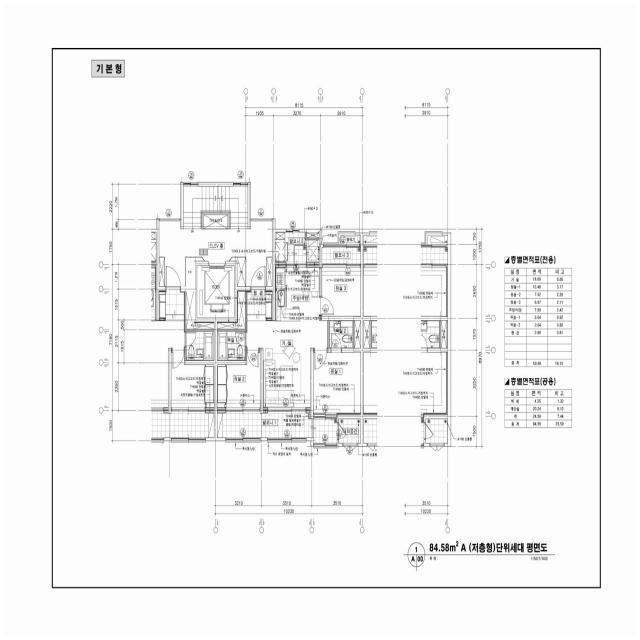space_balconi: (217, 411, 337, 443), (275, 232, 319, 264), (322, 248, 361, 264)
space_bedroom: (313, 352, 361, 415), (217, 352, 260, 408), (322, 268, 361, 316)
space_elevator: (197, 265, 234, 318)
space_elevator_hall: (159, 221, 272, 286)
space_front: (247, 290, 272, 321)
space_kitchen: (275, 267, 319, 321)
space_living_room: (247, 321, 328, 408)
space_other: (217, 291, 245, 329), (339, 419, 361, 443), (186, 257, 204, 286), (230, 257, 246, 286), (204, 215, 228, 229), (354, 321, 361, 348), (267, 257, 272, 286), (159, 257, 164, 286)
space_staircase: (183, 186, 248, 229)
space_toilet: (217, 331, 245, 360), (329, 321, 353, 348)
